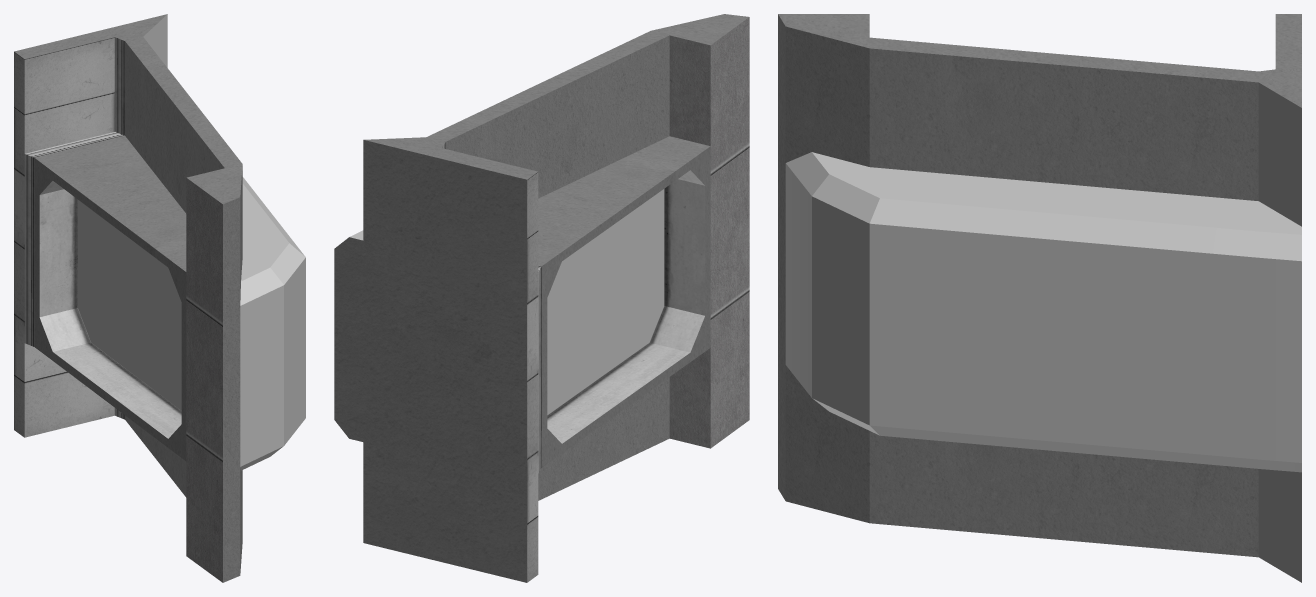
File: Side_room_wall_bottom.fbx
The picture shows the model from 3 angles, left to right: view 1: azimuth 30°, elevation 25°; view 2: azimuth 150°, elevation 25°; view 3: azimuth 270°, elevation 25°; orthographic projection. The views are drawn at different scales.
Parts seen in each view (by area): view 1: Side_room_wall_bottom; view 2: Side_room_wall_bottom; view 3: Side_room_wall_bottom.
Boxes of the visible parts, <box> form: Side_room_wall_bottom: <box>14,14,305,582</box>; Side_room_wall_bottom: <box>334,14,749,582</box>; Side_room_wall_bottom: <box>778,14,1301,582</box>.
Bounding box in the file's own units: 2 × 4 × 4.
